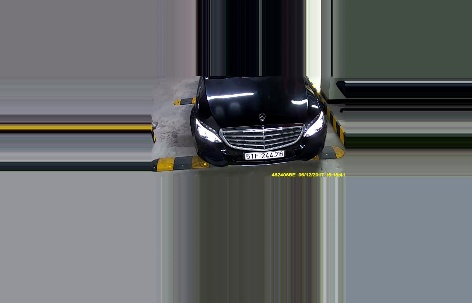plate: (244, 147, 286, 162)
